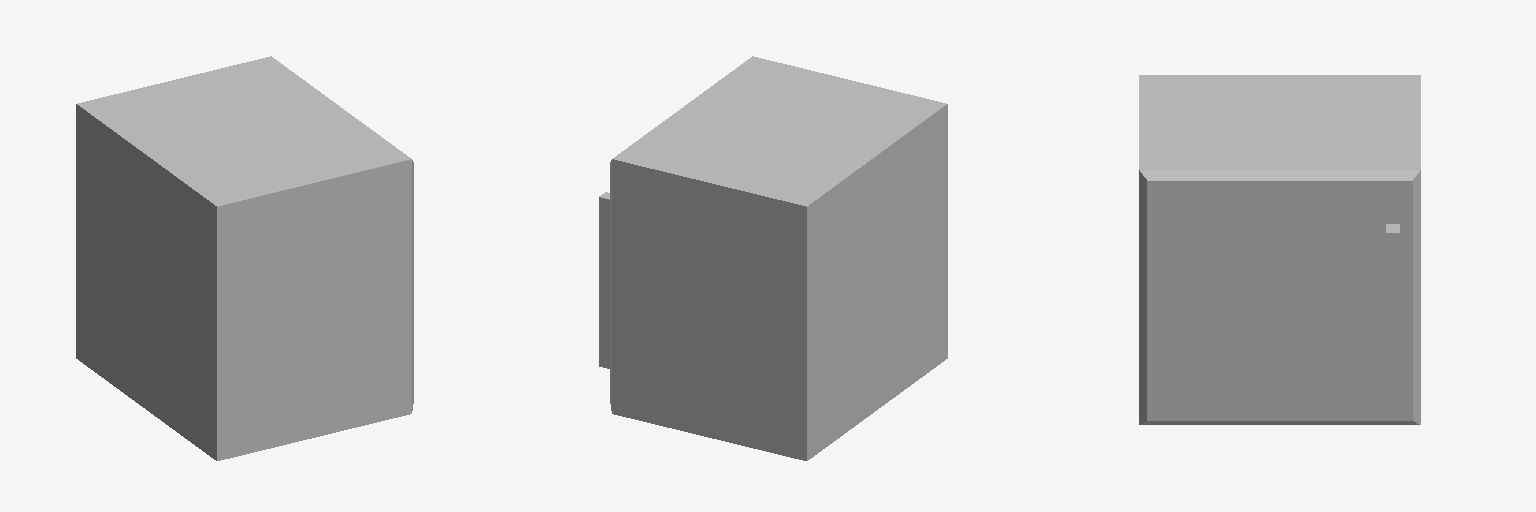
File: fridge.obj
The picture shows the model from 3 angles: view 1: azimuth 30°, elevation 25°; view 2: azimuth 150°, elevation 25°; view 3: azimuth 270°, elevation 25°; orthographic projection.
Visible parts, largest first — view 1: Cube; view 2: Cube; view 3: Cube.
Boxes of the visible parts, <box> form: Cube: <box>76,56,413,460</box>; Cube: <box>599,56,947,460</box>; Cube: <box>1139,75,1420,424</box>.
Size of the model in its own units: 1.8 by 2 by 2.